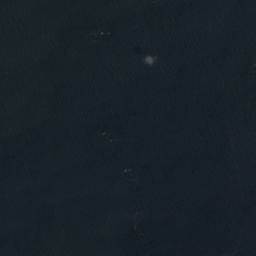Marine Debris: (131, 211, 146, 249), (96, 130, 118, 144), (120, 167, 137, 183), (92, 31, 112, 43), (253, 63, 256, 68)
